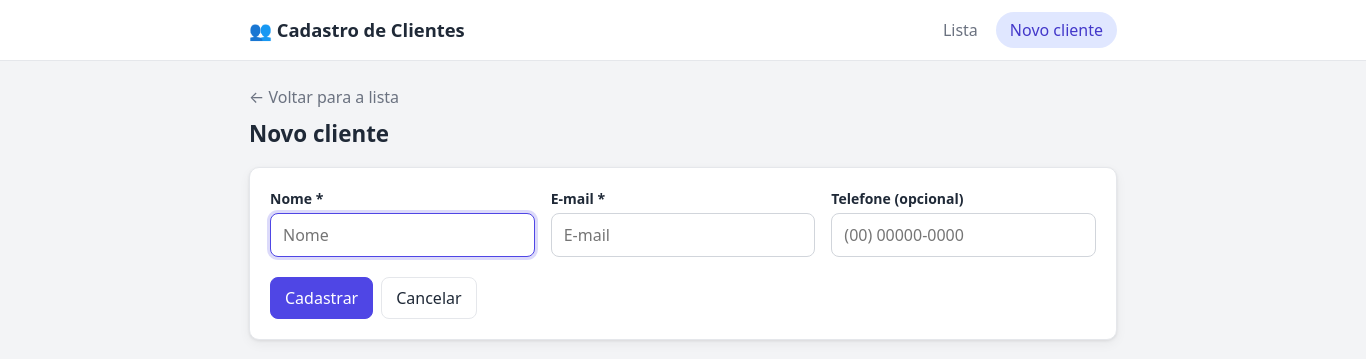
Cadastro › aplica a máscara de telefone e ignora letras
Type "21a98765b4321" into the field with placeholder "(00) 00000-0000" at {"x": 964, "y": 235}, box [831,213,1096,257]
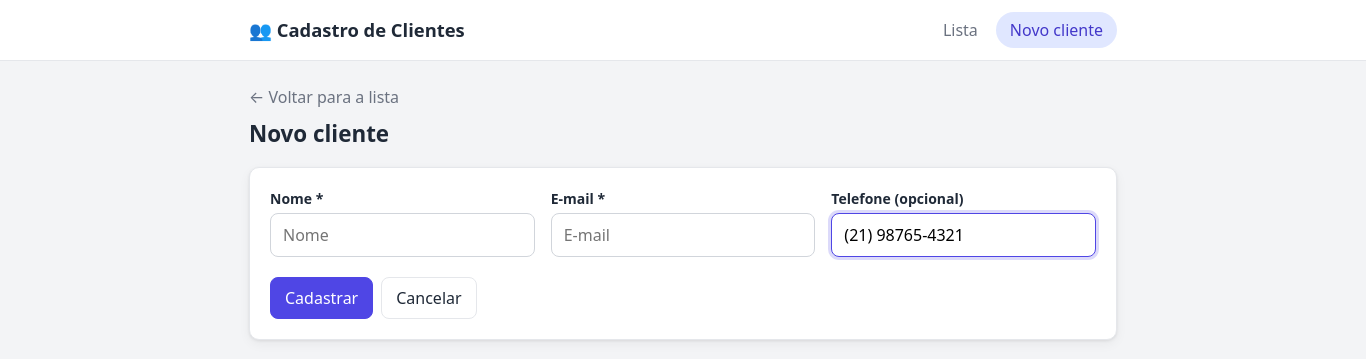
Expected: the field with placeholder "(00) 00000-0000" holds "(21) 98765-4321", [831,213,1096,257]
